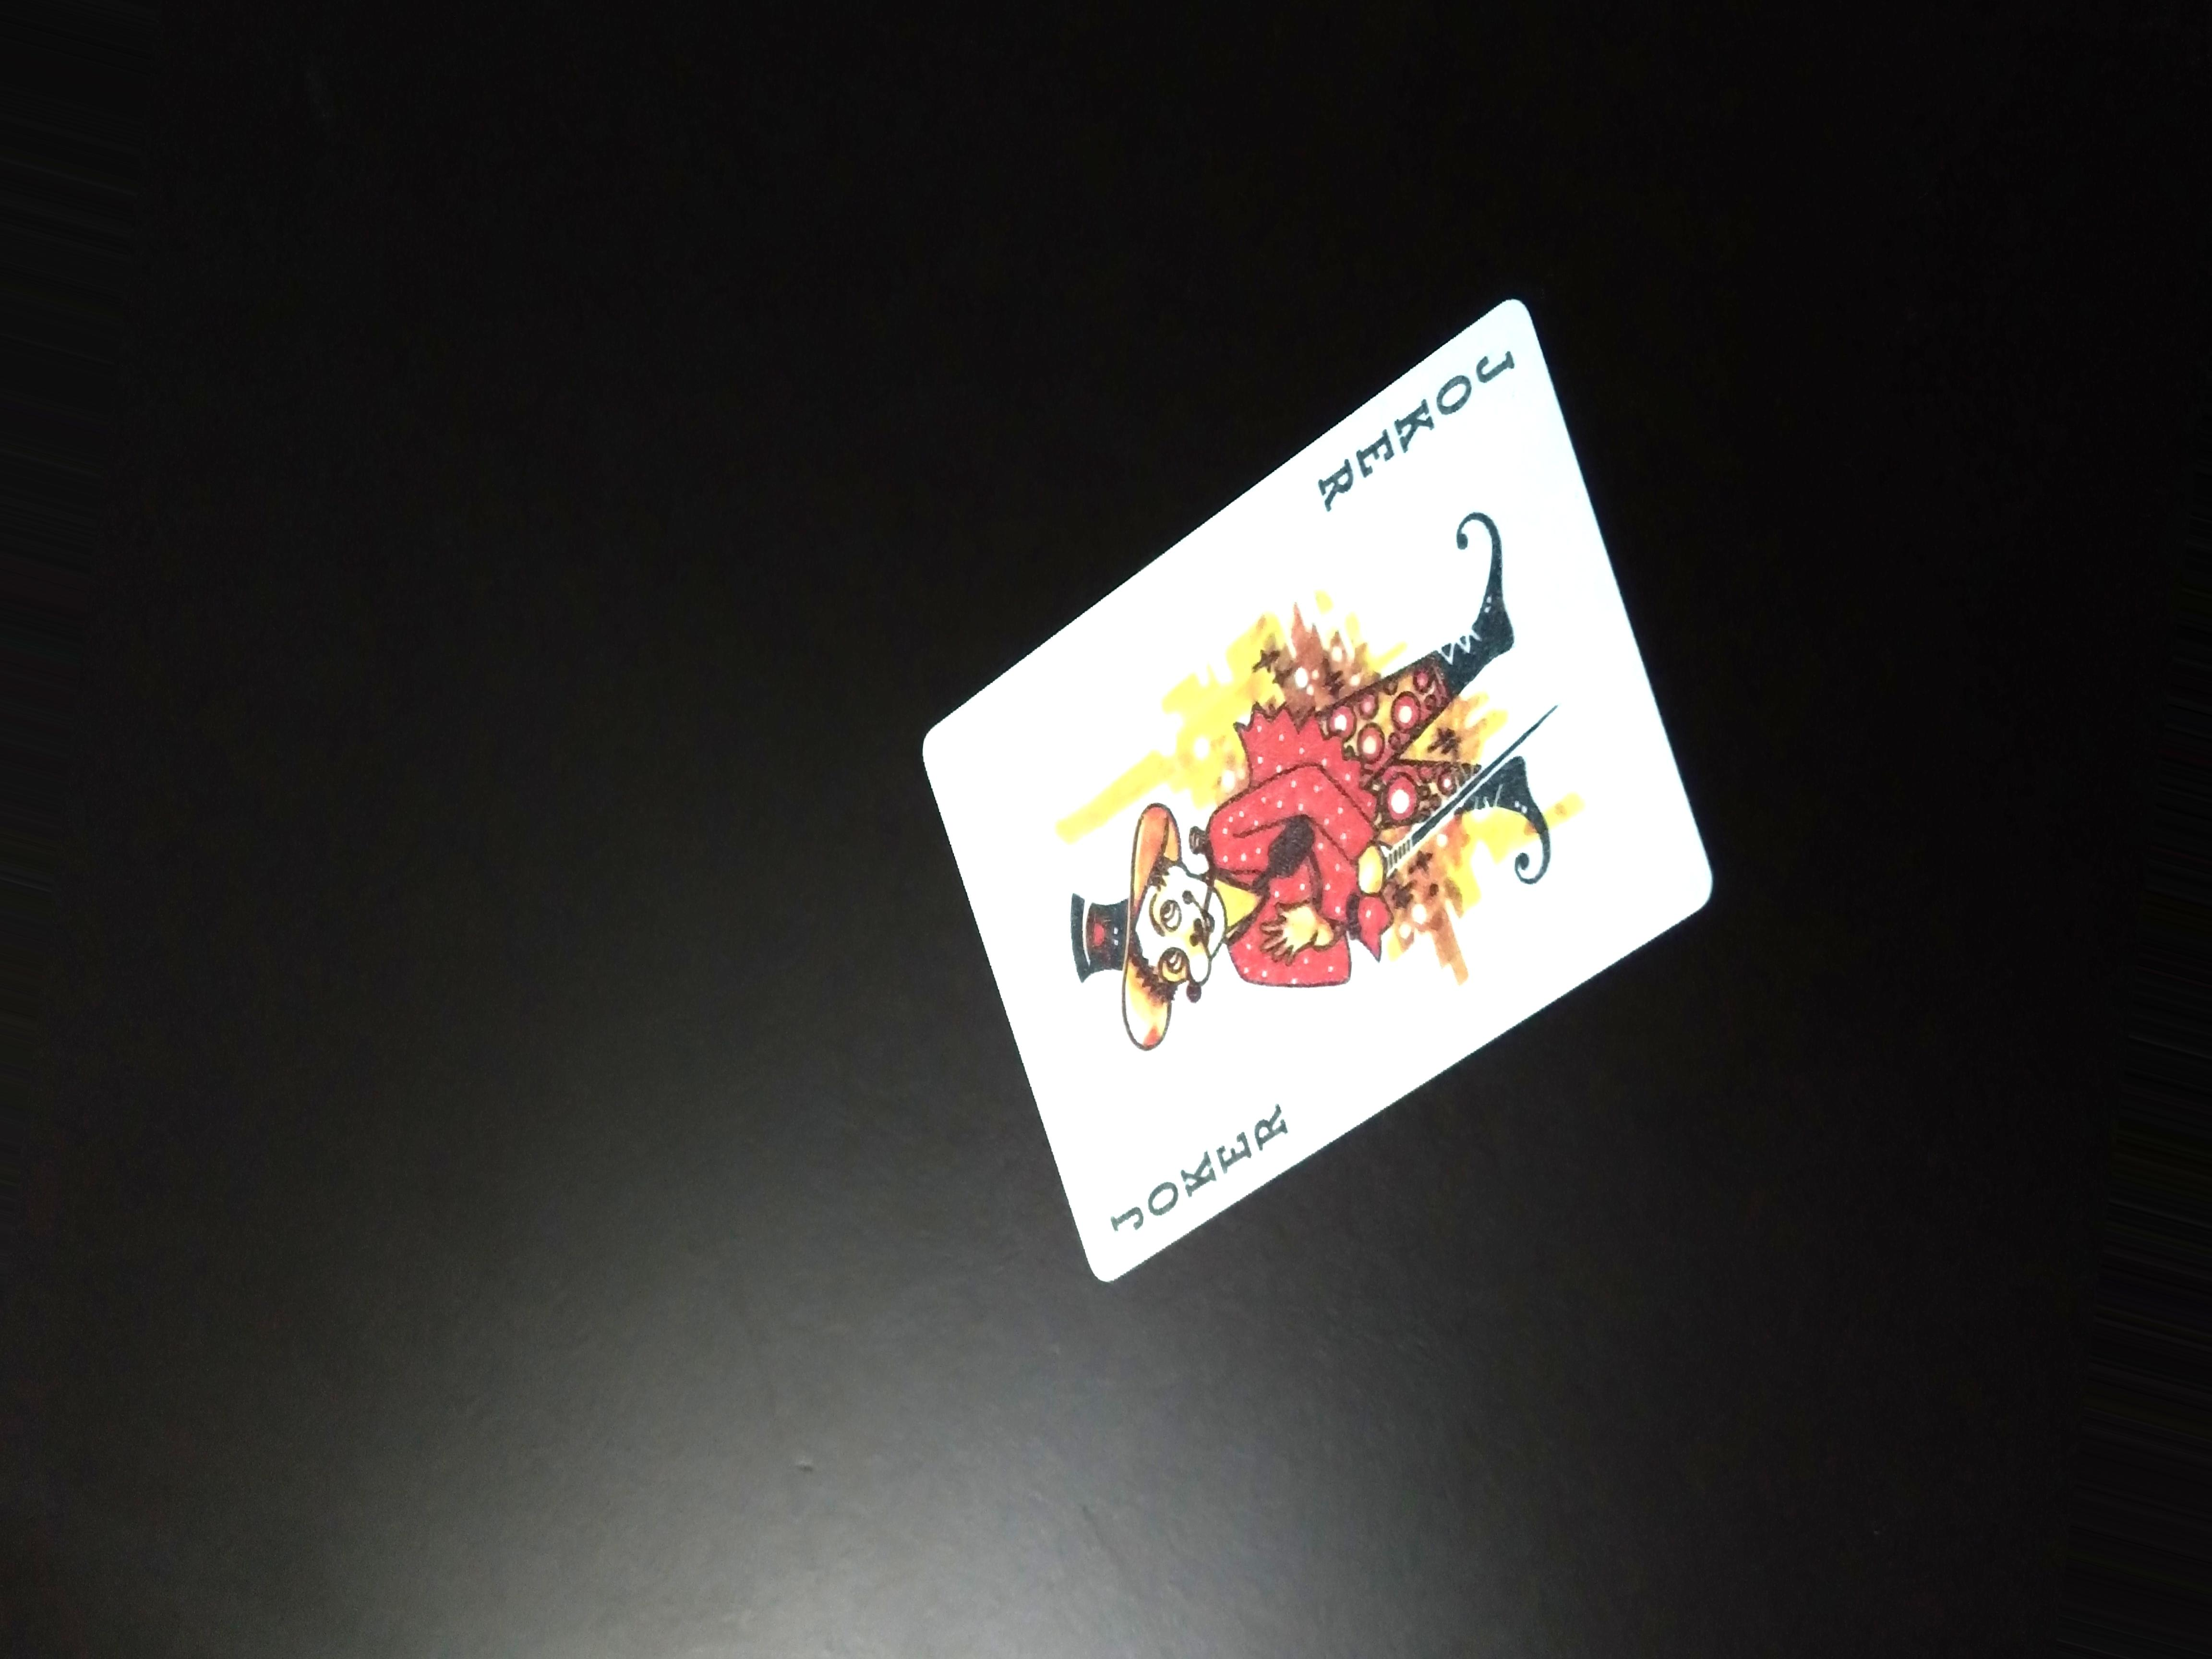JOKER: (1306, 310, 1526, 547)
